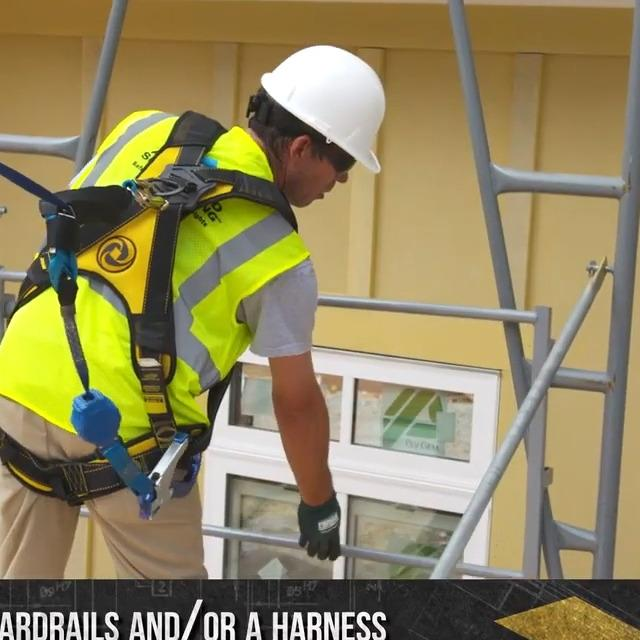Gloves: (296, 494, 343, 562)
Hardhat: (262, 44, 385, 171)
NO-Mask: (292, 164, 329, 208)
NO-Safety Vest: (0, 105, 309, 444)
Person: (0, 40, 385, 577)
